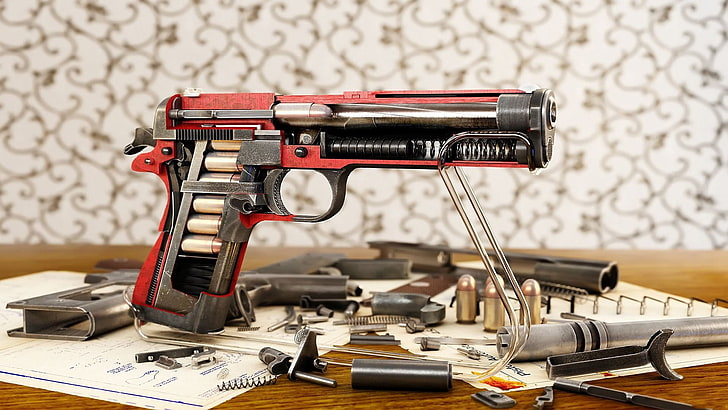knife: (121, 89, 558, 324)
